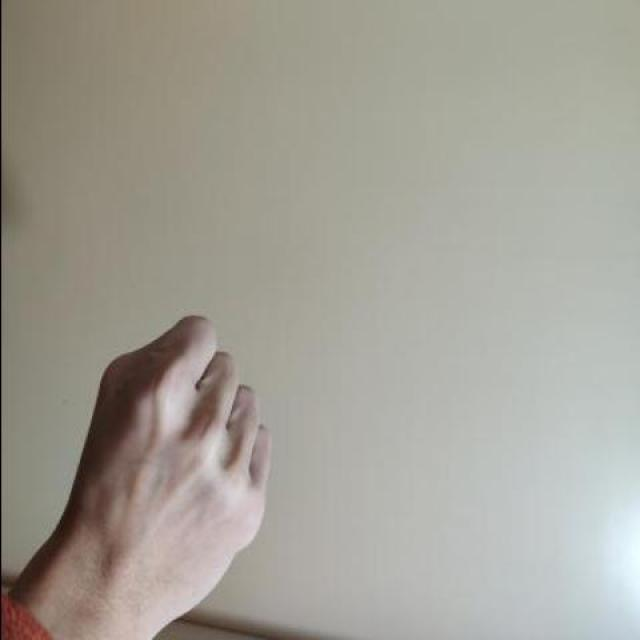Closed Hand: (10, 309, 274, 640)
